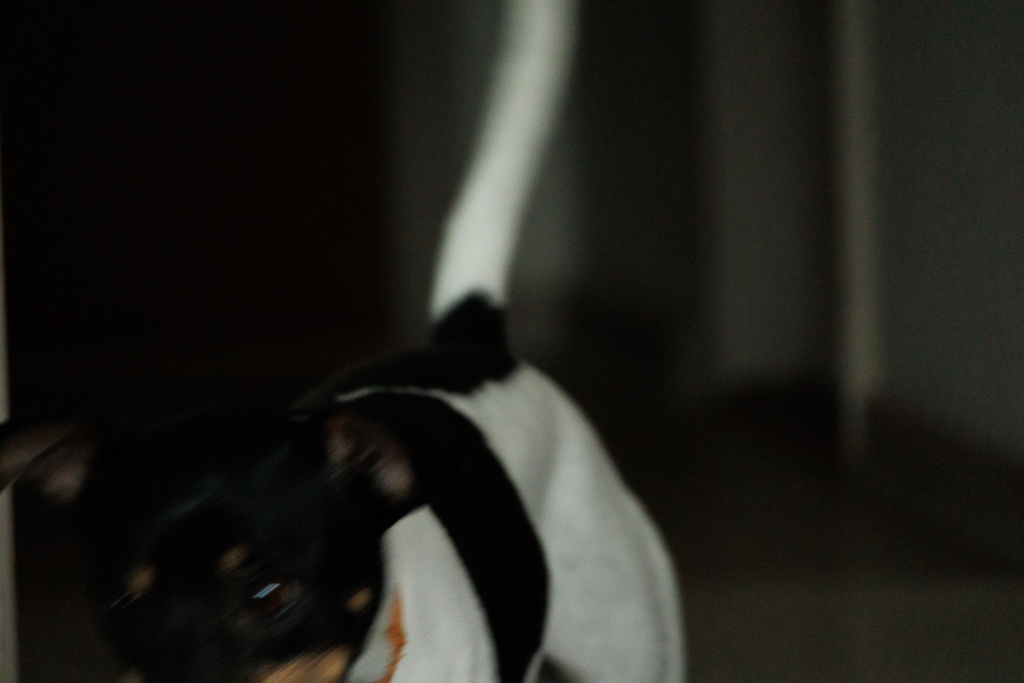Dog: (0, 0, 698, 683)
